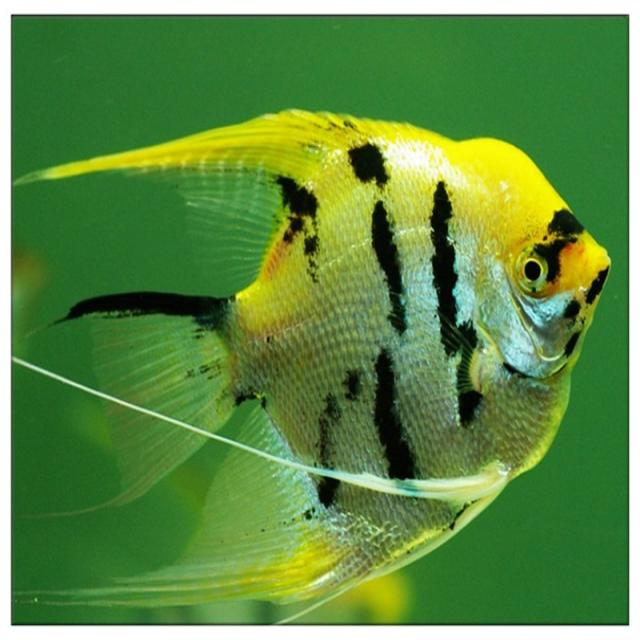AngelFish: (40, 111, 617, 599)
